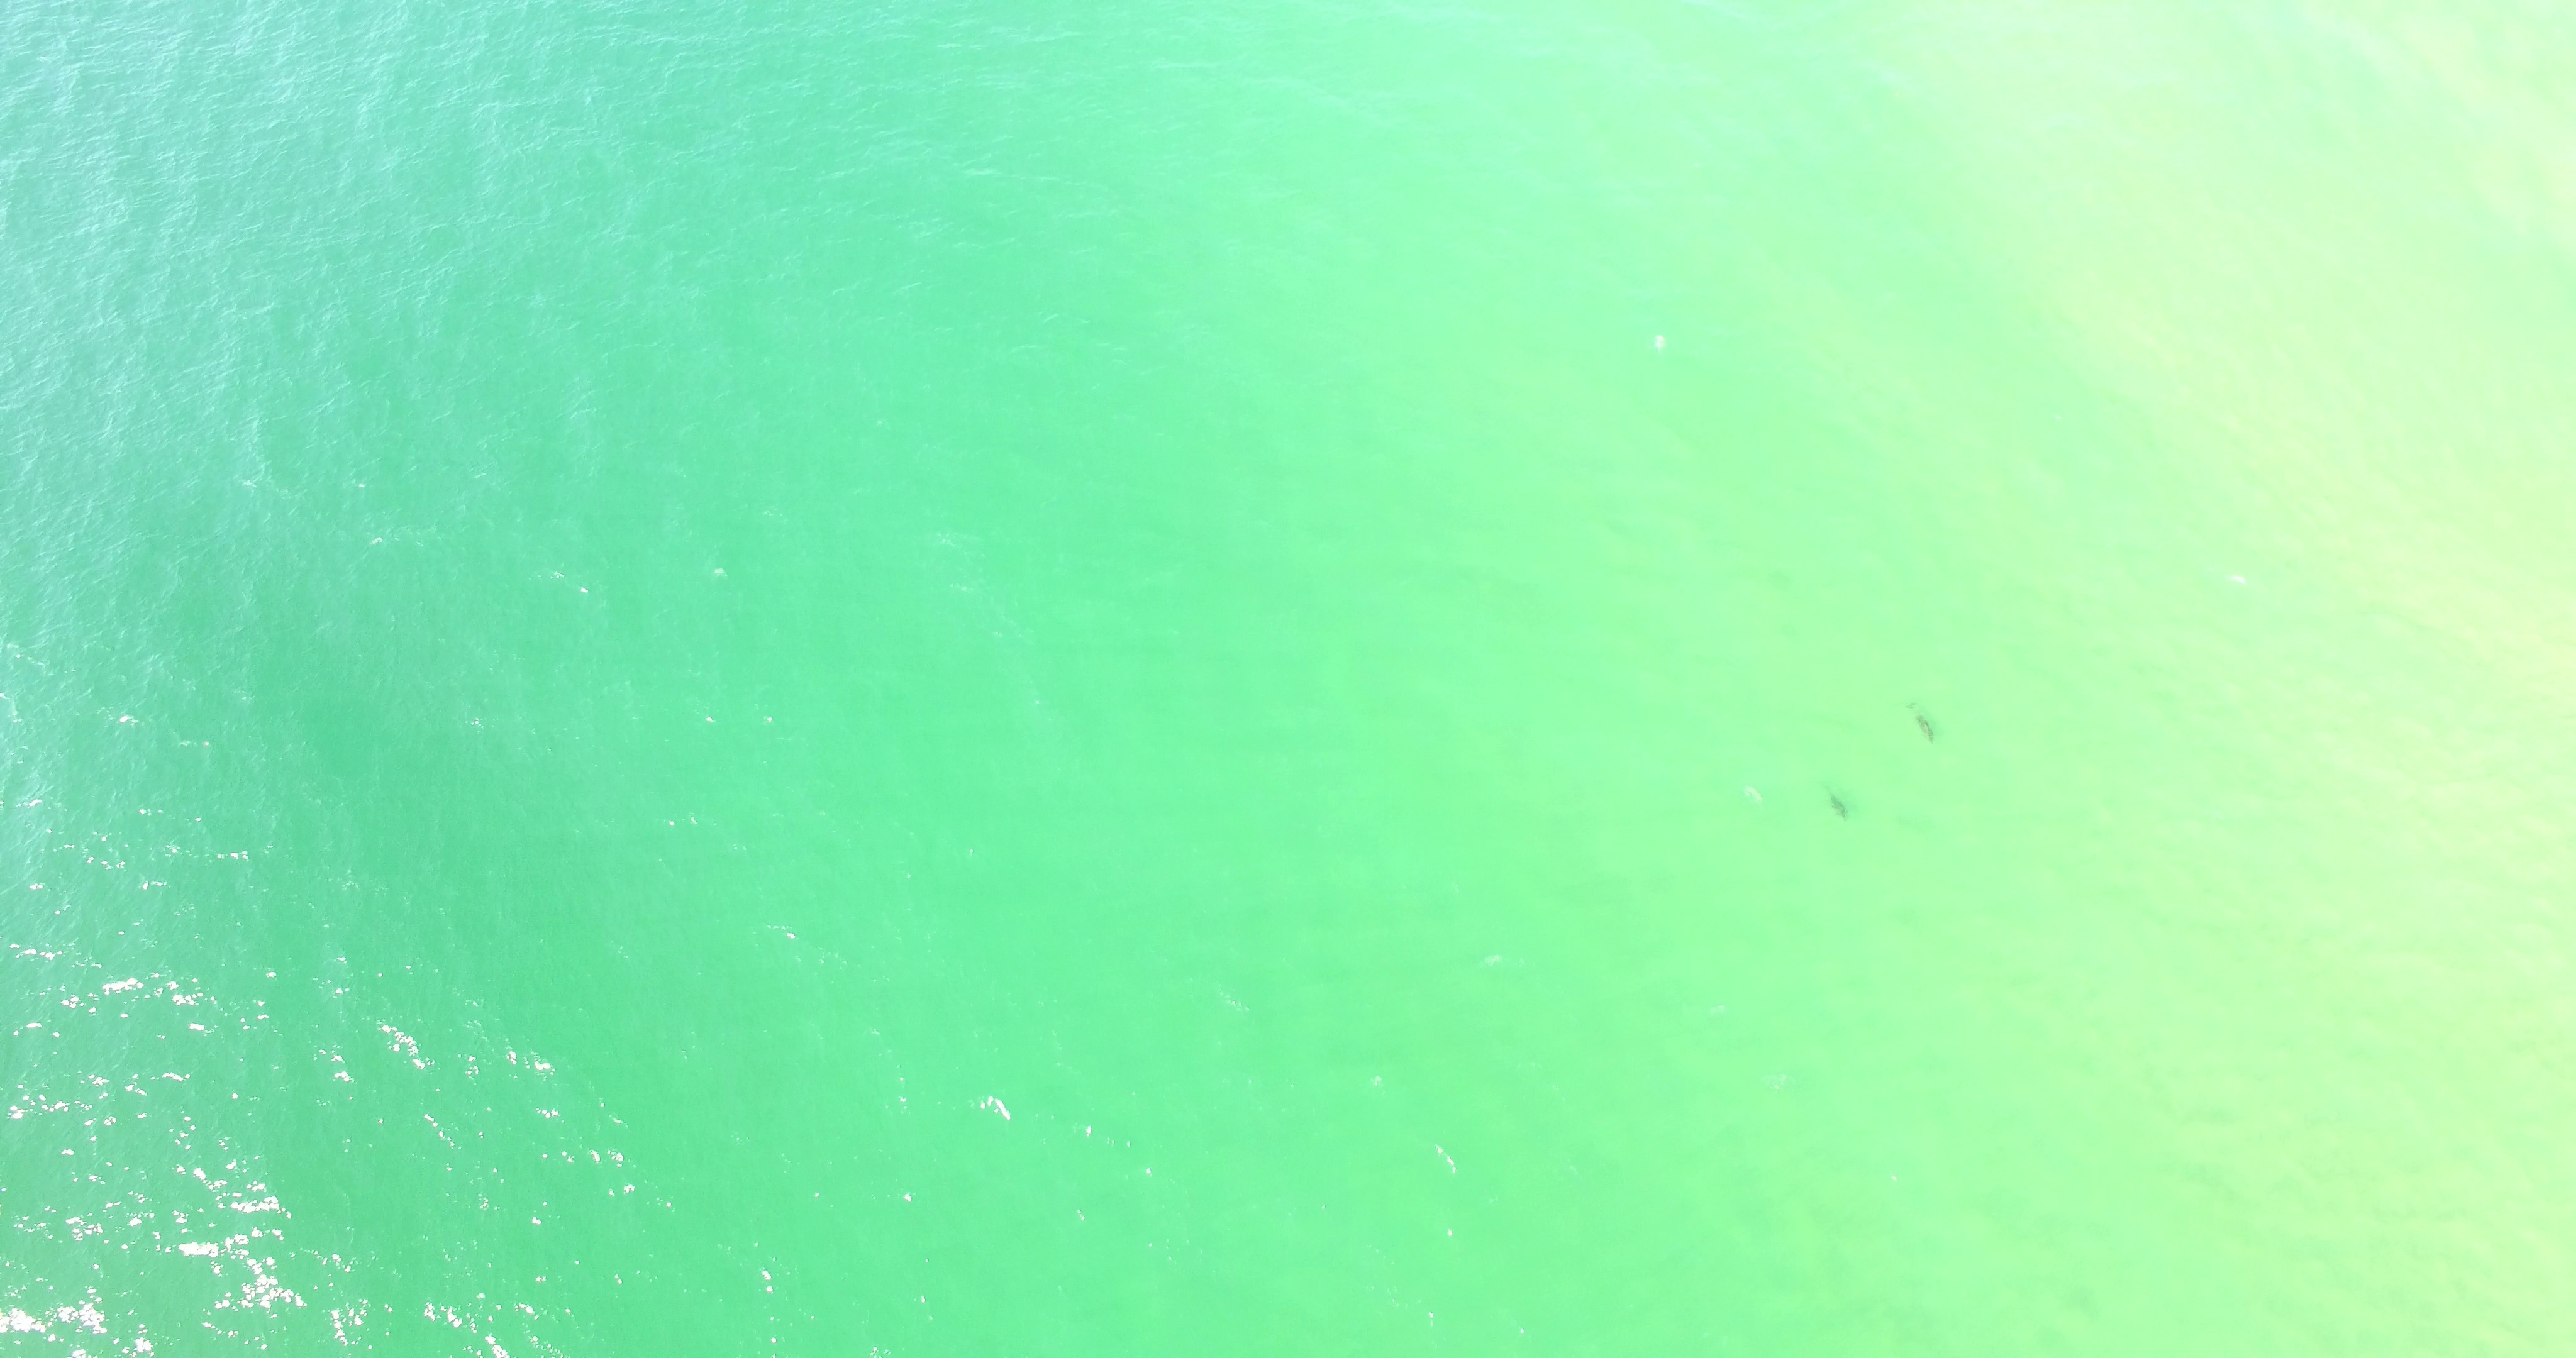dolphin: (1820, 780, 1850, 823), (1905, 704, 1937, 743)
